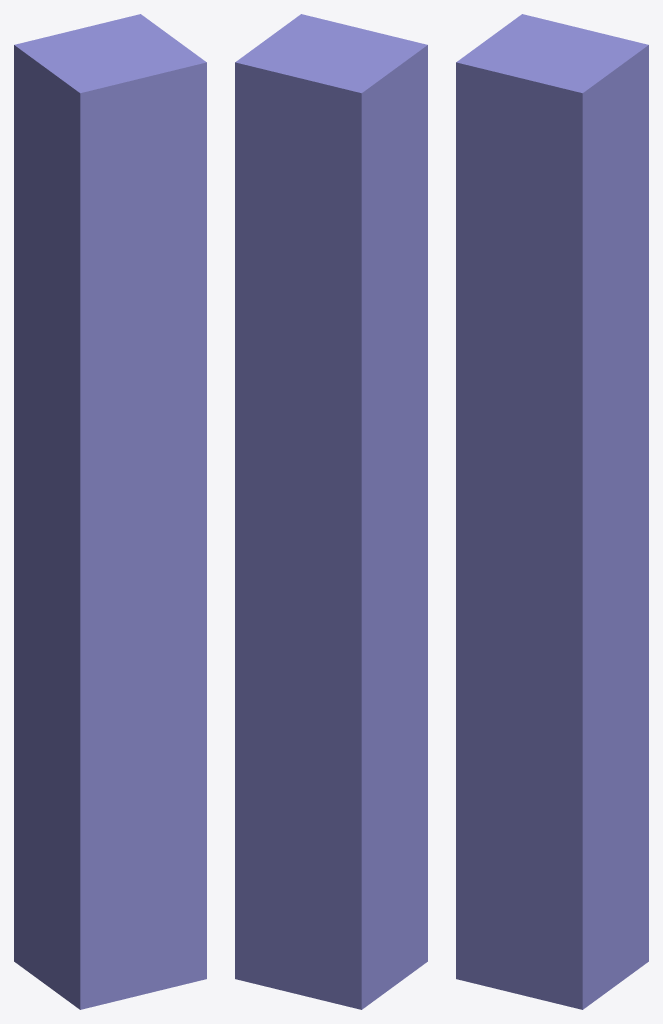
File: SciFi_walkway_01_rail_post.DAE
3 renders of one model, left to right at view 1: azimuth 30°, elevation 25°; view 2: azimuth 150°, elevation 25°; view 3: azimuth 330°, elevation 25°, orthographic.
Visible parts, largest first — view 1: bounds; view 2: bounds; view 3: bounds.
Boxes of the visible parts, left/top/right/bottom form: bounds: left=14, top=14, right=206, bottom=1009; bounds: left=235, top=14, right=427, bottom=1009; bounds: left=456, top=14, right=648, bottom=1009.
Size of the model in its own units: 30.77 by 27.83 by 213.
